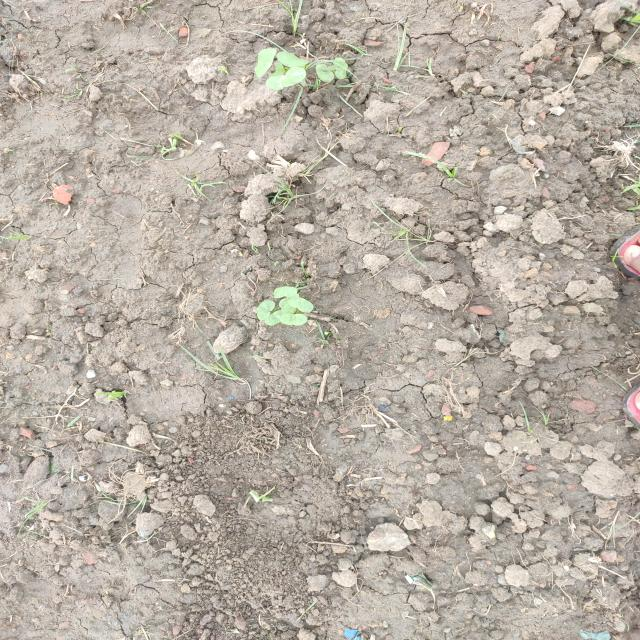seedling: (266, 67, 306, 91), (254, 48, 276, 78), (277, 52, 309, 67), (287, 297, 314, 313), (279, 293, 299, 314), (257, 300, 275, 321), (280, 313, 307, 326), (273, 286, 298, 299), (316, 64, 334, 82), (264, 310, 283, 326), (334, 58, 348, 79), (268, 62, 284, 77)
